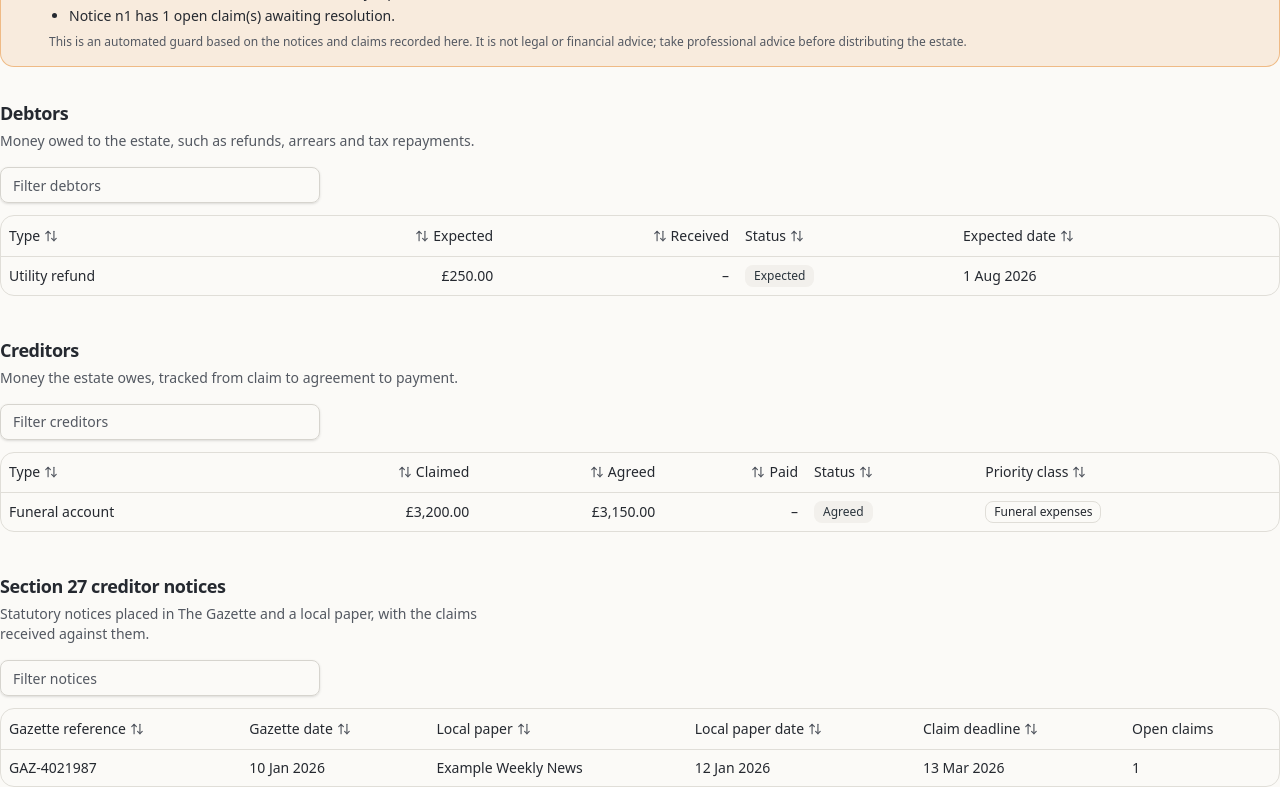
DebtorsCreditorsPage › hides every write affordance from a viewer
(page scrolled)
Check: the text "Utility refund" is shown, box [1,256,261,294]
Step 1. Click the text "GAZ-4021987" → (53,767), box [1,749,241,786]
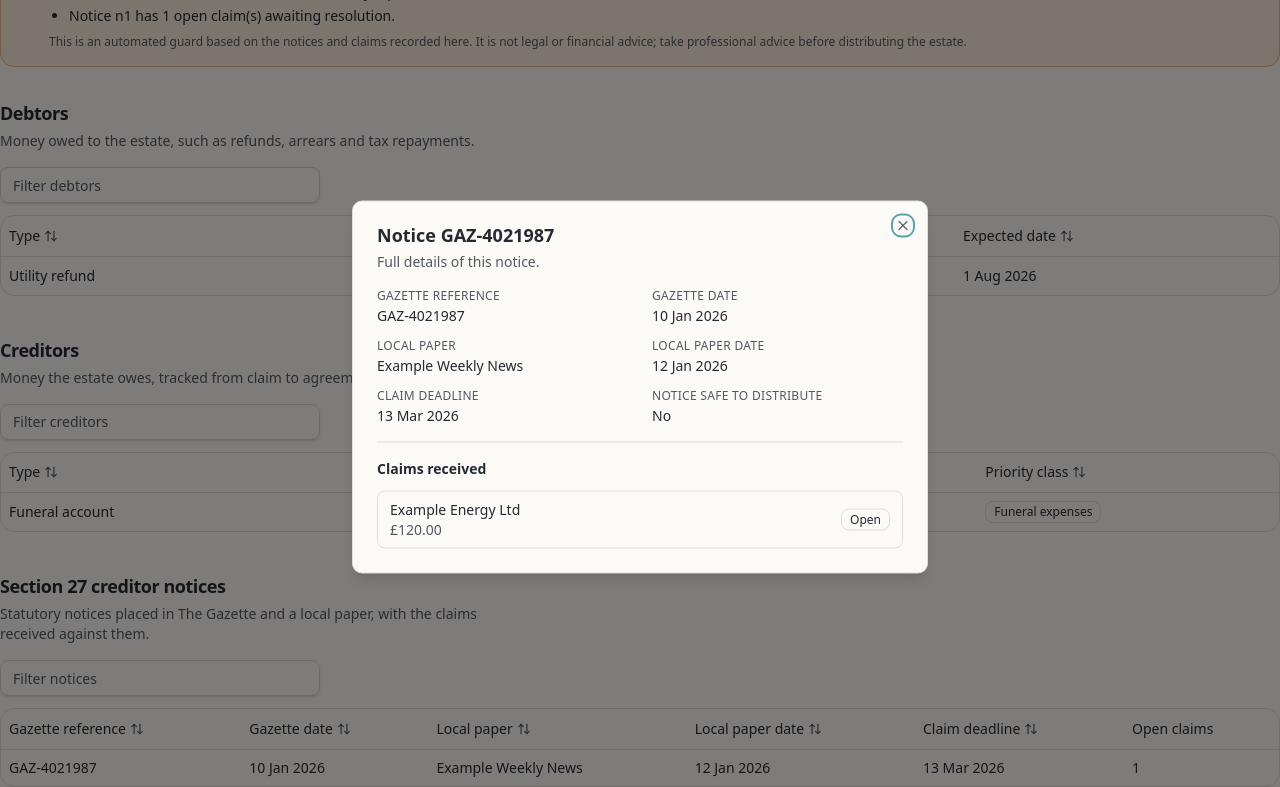
Check: the text "Example Energy Ltd" is shown, box [390,500,520,520]
Check: the text "Open" is shown, box [841,508,890,530]
